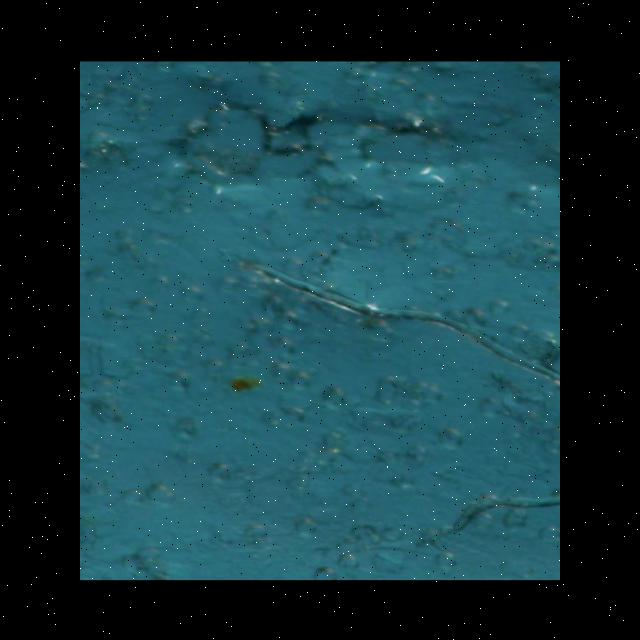Fibre: (233, 259, 561, 553)
